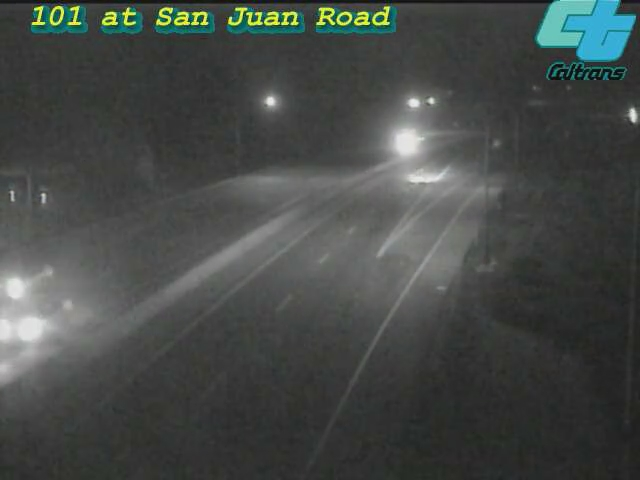vehicle: (1, 272, 74, 382), (377, 136, 457, 216), (1, 243, 62, 323), (378, 117, 428, 167)
